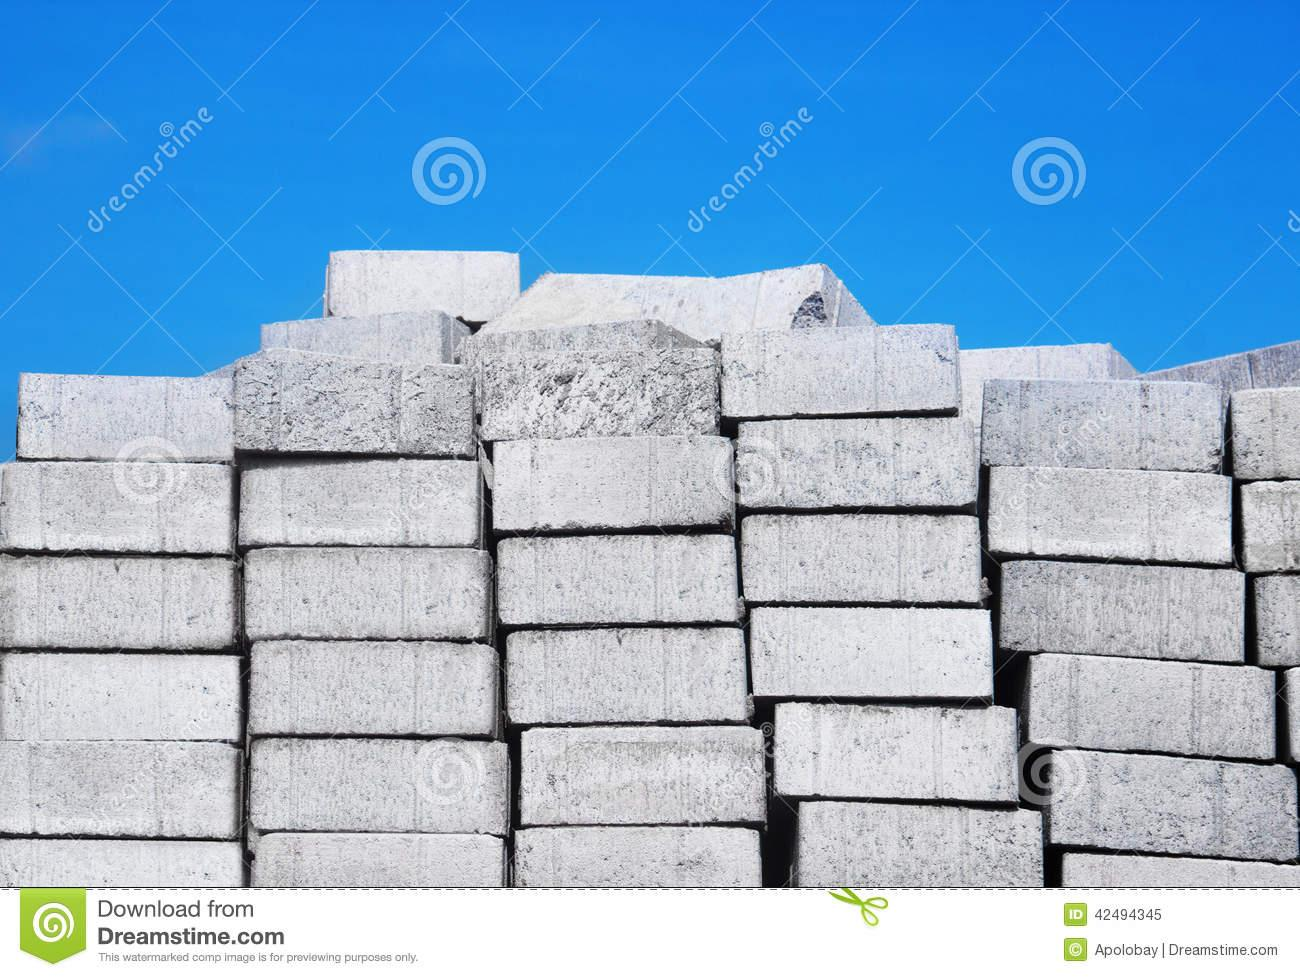brick: (1051, 750, 1300, 860), (1031, 654, 1276, 757), (999, 561, 1245, 660), (253, 740, 505, 833), (775, 703, 1018, 799), (990, 468, 1229, 562), (507, 628, 746, 722), (246, 641, 493, 733), (522, 730, 764, 821), (721, 323, 959, 416), (0, 740, 234, 833), (481, 349, 722, 439), (493, 437, 736, 526), (245, 549, 490, 637), (236, 362, 472, 454), (982, 379, 1222, 468), (798, 800, 1043, 887), (751, 608, 990, 695), (0, 653, 239, 740), (1, 554, 232, 643), (237, 460, 478, 545), (743, 515, 983, 600), (739, 420, 976, 506), (499, 536, 736, 622), (0, 463, 229, 551), (17, 373, 234, 461), (517, 829, 761, 886), (250, 834, 502, 887), (0, 839, 241, 886), (262, 310, 442, 361)
